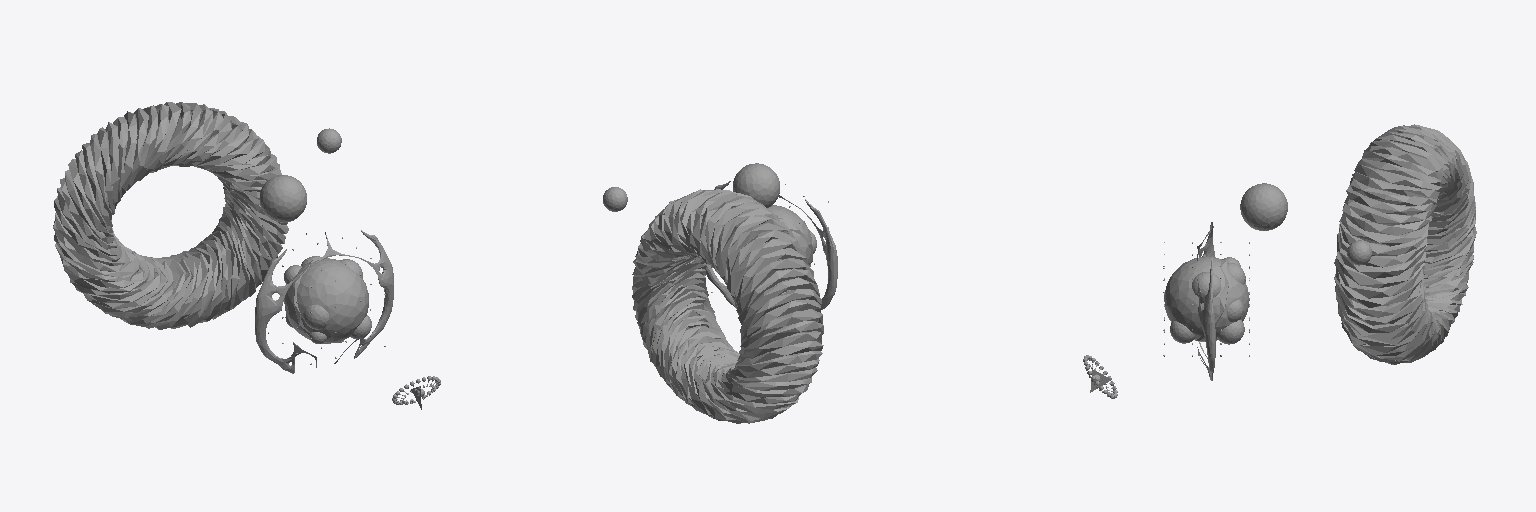
File: archan.obj
The picture shows the model from 3 angles: view 1: azimuth 30°, elevation 25°; view 2: azimuth 150°, elevation 25°; view 3: azimuth 270°, elevation 25°; orthographic projection.
Parts seen in each view (by area): view 1: Cloner_Torus_1_49; view 2: Cloner_Torus_1_49; view 3: Cloner_Torus_1_49.
Boxes of the visible parts, <box> form: Cloner_Torus_1_49: <box>53,102,440,409</box>; Cloner_Torus_1_49: <box>603,163,837,423</box>; Cloner_Torus_1_49: <box>1083,124,1476,398</box>.
Size of the model in its own units: 672 by 562 by 925.